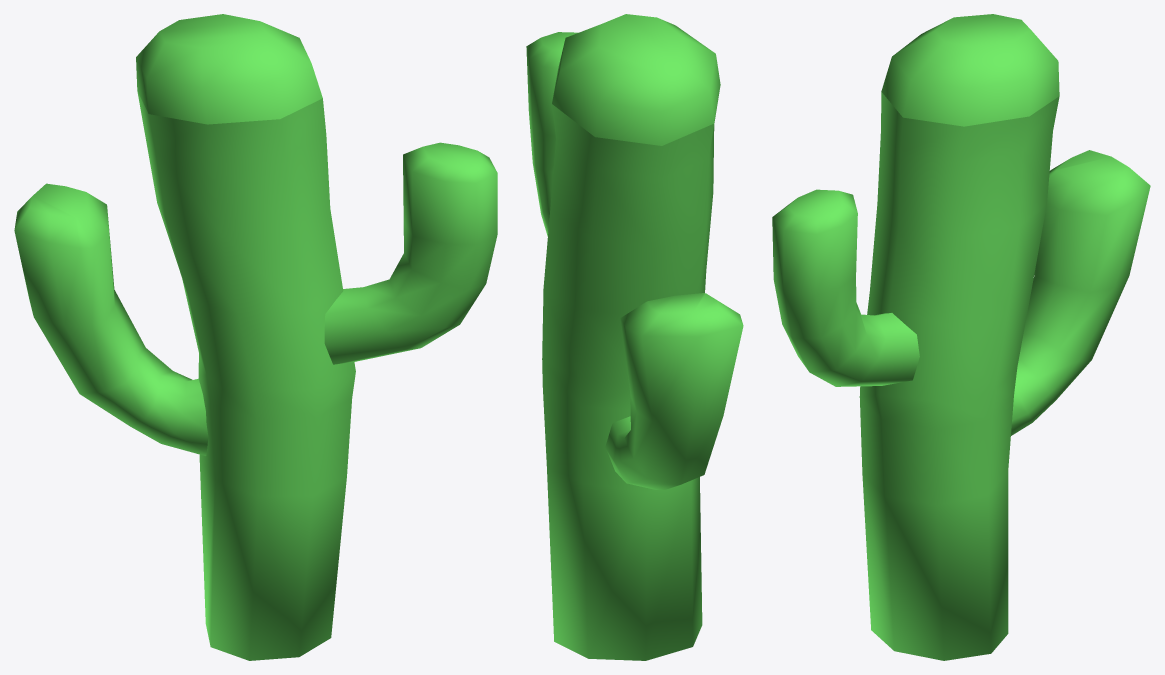
Rendered from Cactus_double.fbx.
3 views of the same model, side by side, from view 1: azimuth 30°, elevation 25°; view 2: azimuth 150°, elevation 25°; view 3: azimuth 270°, elevation 25° (orthographic). The views are drawn at different scales.
Visible parts, largest first — view 1: Cactus_double; view 2: Cactus_double; view 3: Cactus_double.
Boxes of the visible parts, box(x1,y1,x2,y2) form: Cactus_double: box(14, 14, 497, 660); Cactus_double: box(526, 14, 743, 660); Cactus_double: box(772, 14, 1150, 660).
Size of the model in its own units: 150 by 250 by 145.
